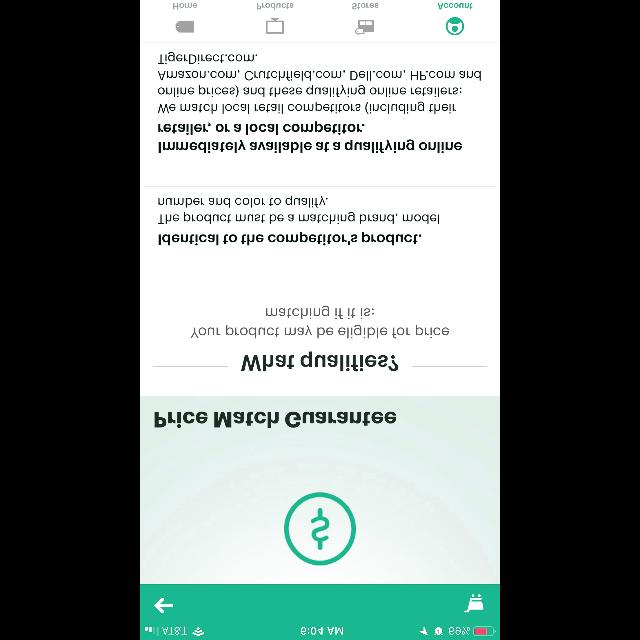icon: (464, 594, 484, 612), (446, 17, 464, 35), (154, 597, 174, 613), (176, 21, 194, 33)
image: (284, 492, 356, 566), (266, 18, 284, 34), (356, 20, 374, 34)
text: (158, 52, 482, 114), (158, 121, 462, 153), (190, 306, 450, 338), (158, 196, 440, 224), (155, 412, 397, 428), (158, 232, 422, 246), (242, 351, 398, 371), (256, 3, 294, 9), (438, 3, 472, 9), (352, 3, 378, 9), (174, 3, 198, 9)
uppertaskbar: (140, 626, 500, 640)
